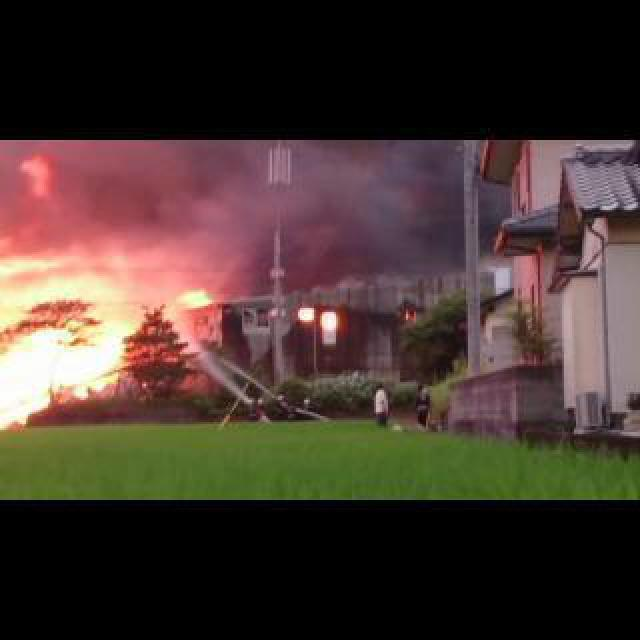Fire: (2, 252, 152, 428), (182, 290, 218, 308)
Smoke: (172, 139, 456, 286)
